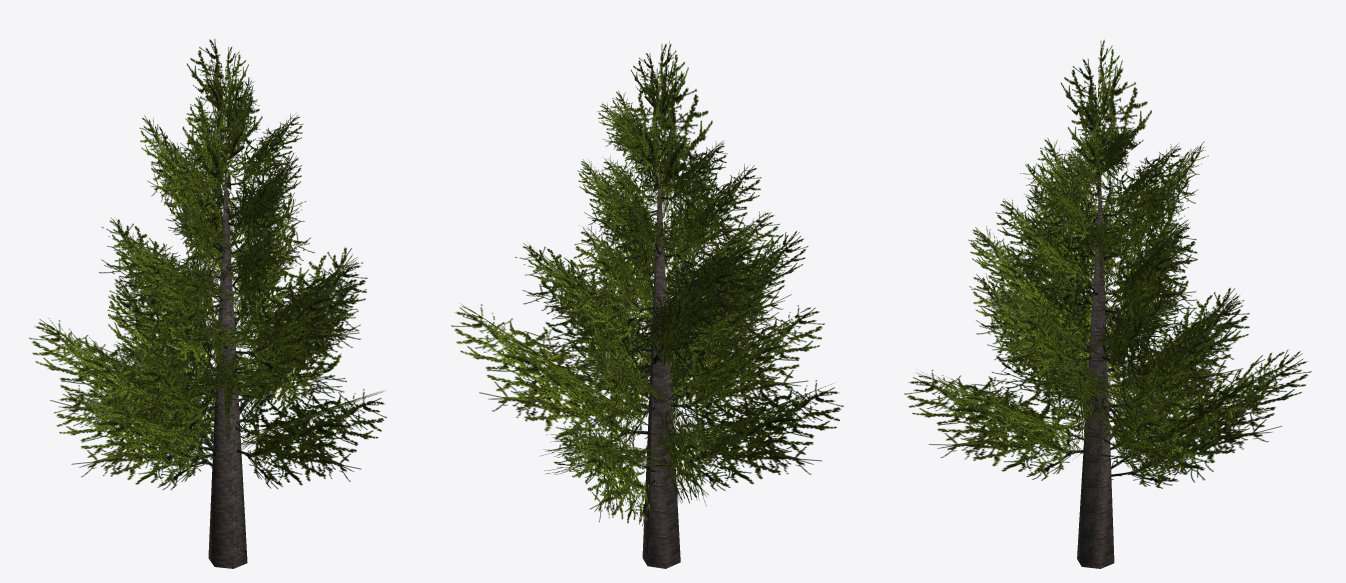
Rendered from tree954.glb.
The picture shows the model from 3 angles, left to right: view 1: azimuth 30°, elevation 25°; view 2: azimuth 150°, elevation 25°; view 3: azimuth 270°, elevation 25°; orthographic projection.
Visible parts, largest first — view 1: tree954; view 2: tree954; view 3: tree954.
Boxes of the visible parts, box(x1,y1,x2,y2) form: tree954: box(29, 39, 386, 568); tree954: box(451, 41, 843, 568); tree954: box(904, 40, 1311, 568).
Bounding box in the file's own units: 2.31 × 3.21 × 2.39.
Materials: 2 (2 with a texture image).
